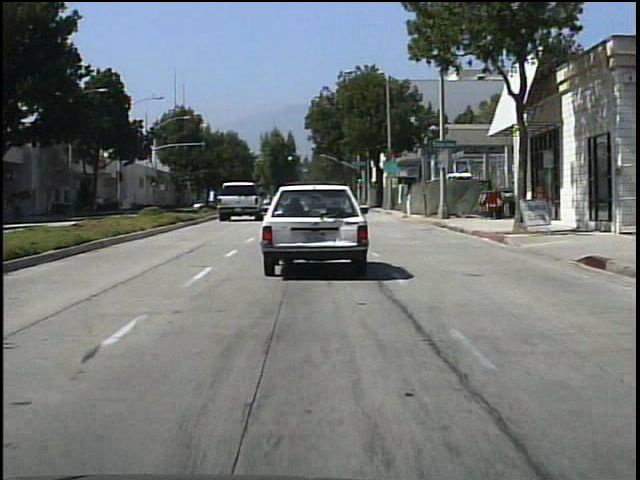person: (13, 195, 32, 227)
